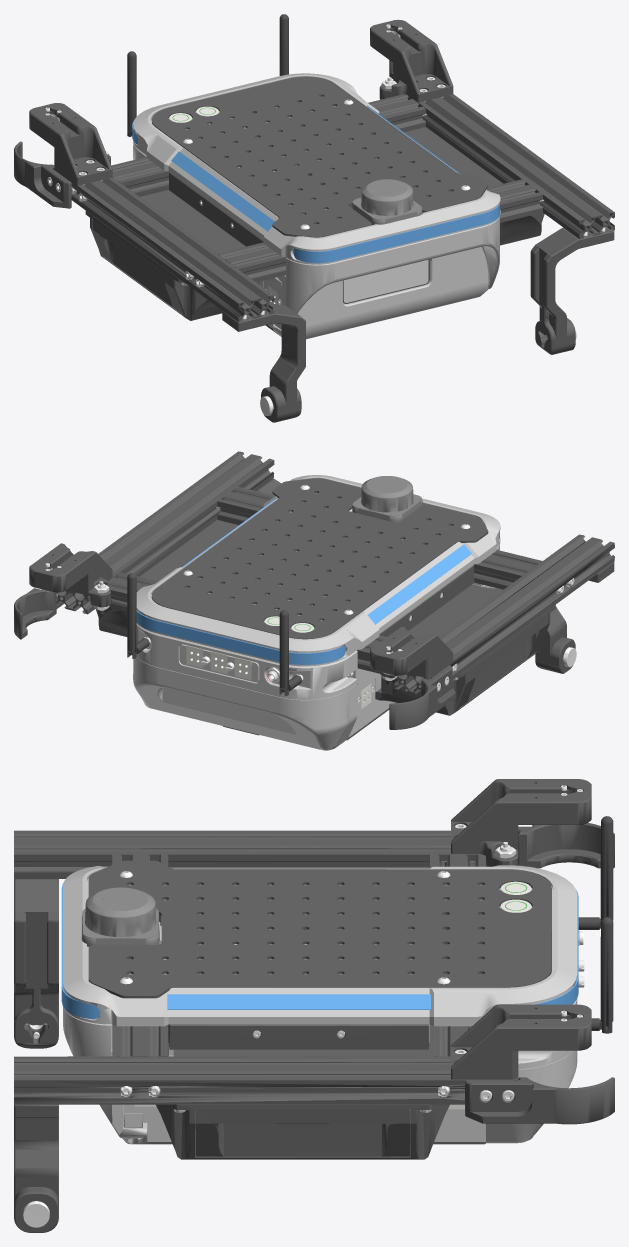
Rendered from raph_base_link.dae.
3 renders of one model, top to bottom at view 1: azimuth 30°, elevation 25°; view 2: azimuth 150°, elevation 25°; view 3: azimuth 270°, elevation 25°, orthographic. The views are drawn at different scales.
Visible parts, largest first — view 1: metal_cover, V-slot_frame, Led_Cover, Chasis front, Right Battery, RR Servo mount, RL Servo mount, FL Wheel mount, FR Mount, Left Battery, MEB BOX, RP Lidar (+4 smaller); view 2: metal_cover, V-slot_frame, Led_Cover, MEB Cover, MEB Rear, Right Battery, RR Servo mount, RL Servo mount, MEB BOX, Left Battery, RP Lidar, FR Mount (+3 smaller); view 3: metal_cover, V-slot_frame, Led_Cover, Left Battery, RL Servo mount, RR Servo mount, MEB BOX, FR Mount, FL Wheel mount, RP Lidar, Chasis front, MEB Cover (+3 smaller).
Part boxes in pixels (bbox=[...]): metal_cover: bbox=[151, 76, 488, 237]; V-slot_frame: bbox=[53, 94, 614, 322]; Led_Cover: bbox=[132, 73, 500, 264]; Chasis front: bbox=[273, 216, 499, 339]; Right Battery: bbox=[85, 190, 259, 320]; RR Servo mount: bbox=[14, 103, 112, 208]; RL Servo mount: bbox=[370, 19, 453, 102]; FL Wheel mount: bbox=[530, 227, 614, 354]; FR Mount: bbox=[222, 303, 305, 422]; Left Battery: bbox=[404, 127, 544, 245]; MEB BOX: bbox=[169, 139, 430, 329]; RP Lidar: bbox=[339, 179, 422, 224]; metal_cover: bbox=[151, 478, 488, 639]; V-slot_frame: bbox=[56, 451, 614, 694]; Led_Cover: bbox=[136, 475, 500, 666]; MEB Cover: bbox=[133, 657, 357, 750]; MEB Rear: bbox=[128, 616, 357, 699]; Right Battery: bbox=[375, 584, 554, 715]; RR Servo mount: bbox=[370, 626, 455, 729]; RL Servo mount: bbox=[14, 543, 112, 639]; MEB BOX: bbox=[208, 526, 490, 737]; Left Battery: bbox=[96, 520, 238, 636]; RP Lidar: bbox=[349, 476, 422, 539]; FR Mount: bbox=[535, 562, 614, 673]; metal_cover: bbox=[88, 860, 551, 998]; V-slot_frame: bbox=[14, 830, 518, 1104]; Led_Cover: bbox=[61, 865, 578, 1026]; Left Battery: bbox=[156, 1043, 449, 1159]; RL Servo mount: bbox=[451, 1004, 614, 1124]; RR Servo mount: bbox=[451, 779, 614, 868]; MEB BOX: bbox=[123, 899, 485, 1141]; FR Mount: bbox=[14, 879, 58, 1048]; FL Wheel mount: bbox=[14, 1104, 58, 1232]; RP Lidar: bbox=[81, 887, 237, 974]; Chasis front: bbox=[63, 1006, 147, 1144]; MEB Cover: bbox=[486, 1050, 577, 1143].
Size of the model in its own units: 0.4527 by 0.4279 by 0.21.
